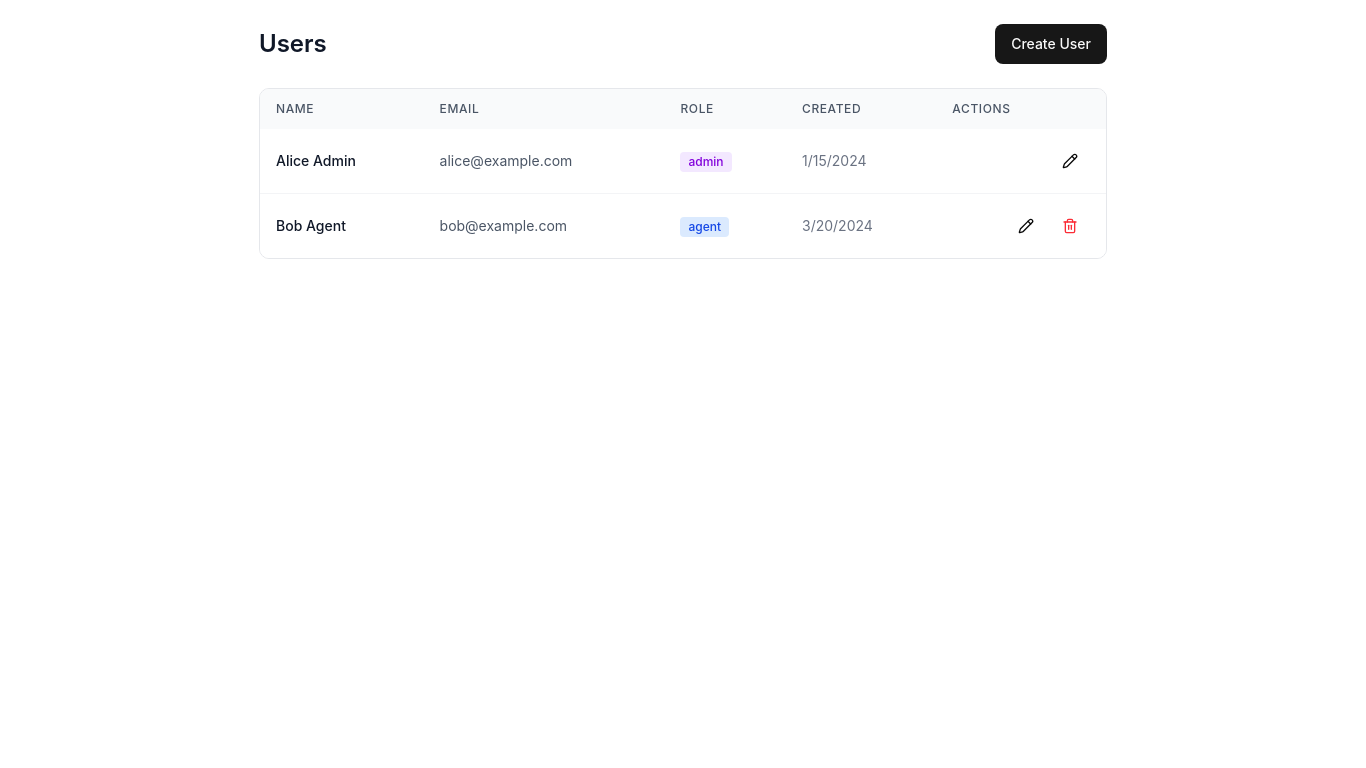
Test: Delete User › closes the modal and refetches users after a successful deletion
Expected: the text "Bob Agent" is shown, [260,194,424,258]
Step 1. Click the button named "delete bob agent" → point(1070, 226), box [1050,206,1090,246]
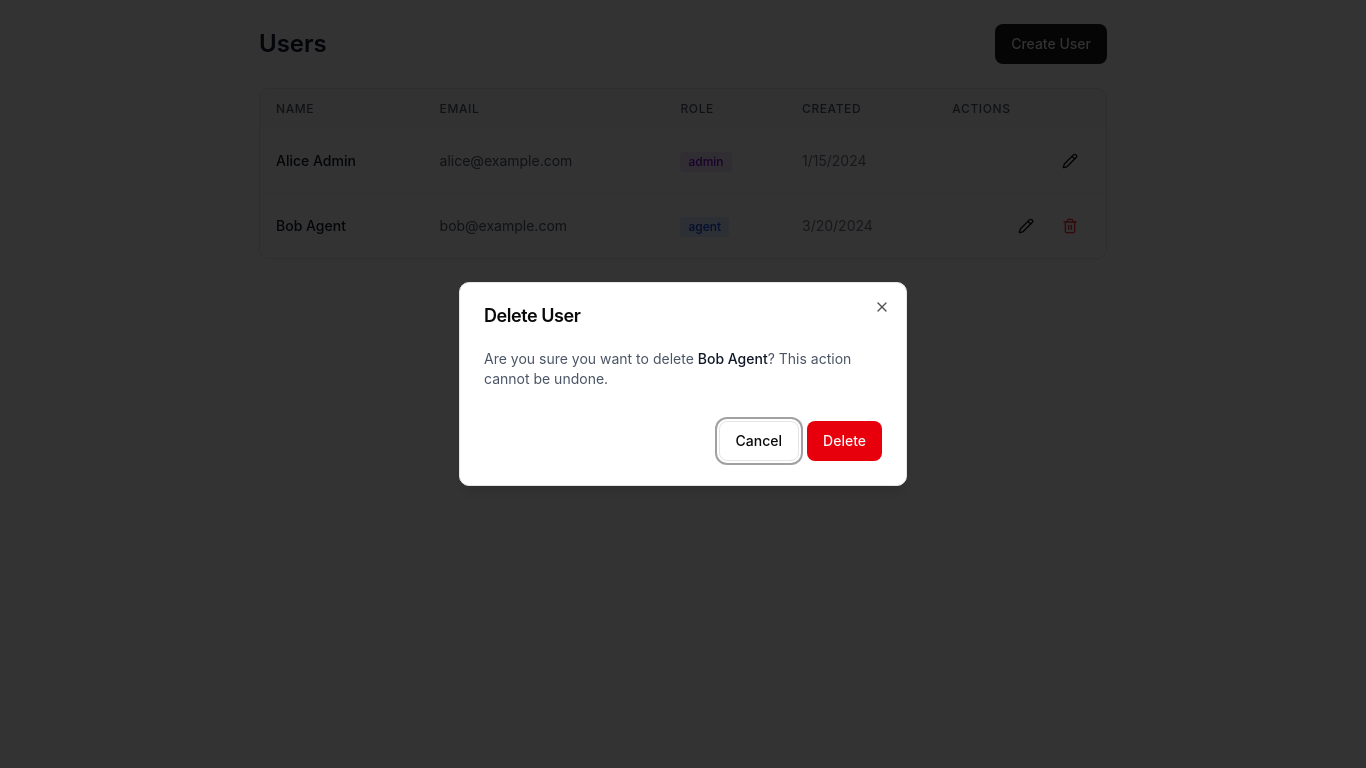
Step 2. Click the button "Delete" → point(845, 441), box [807,421,882,461]
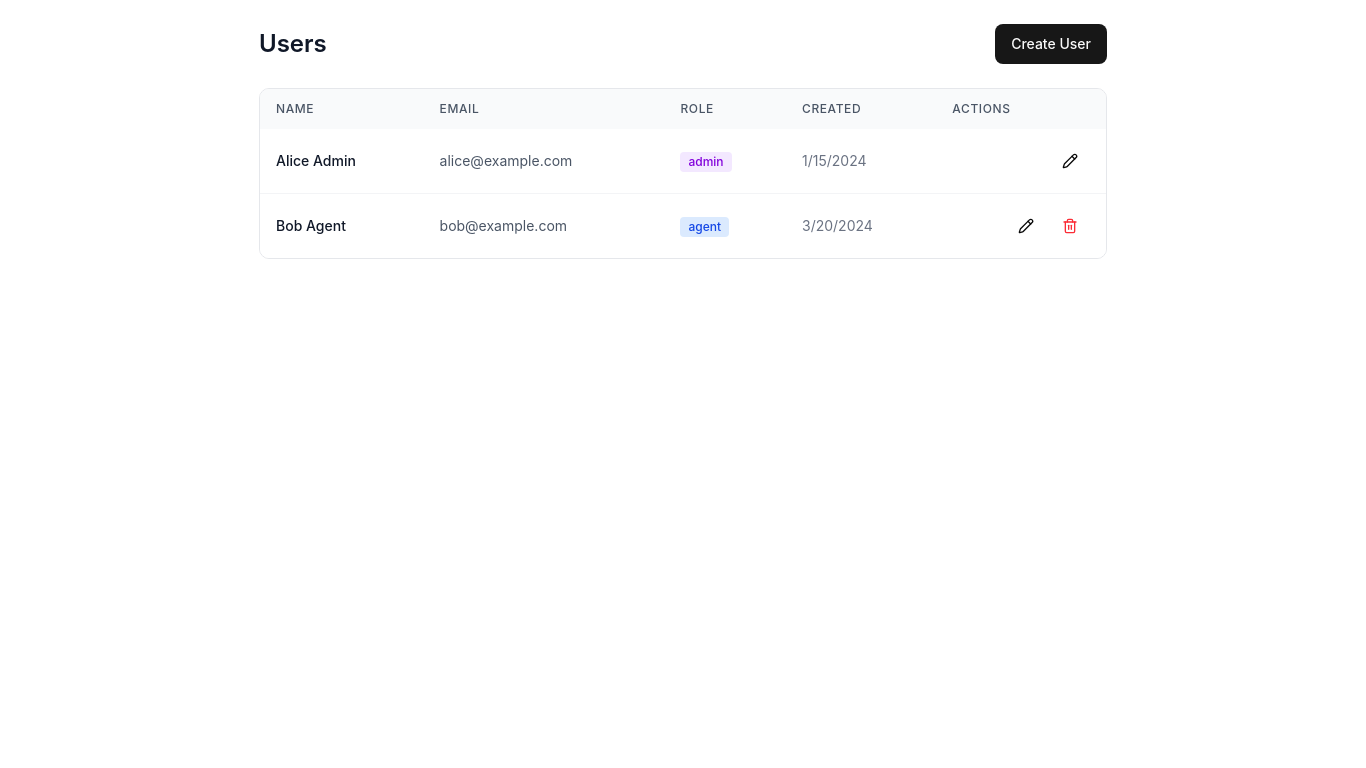
Expected: the dialog is gone
